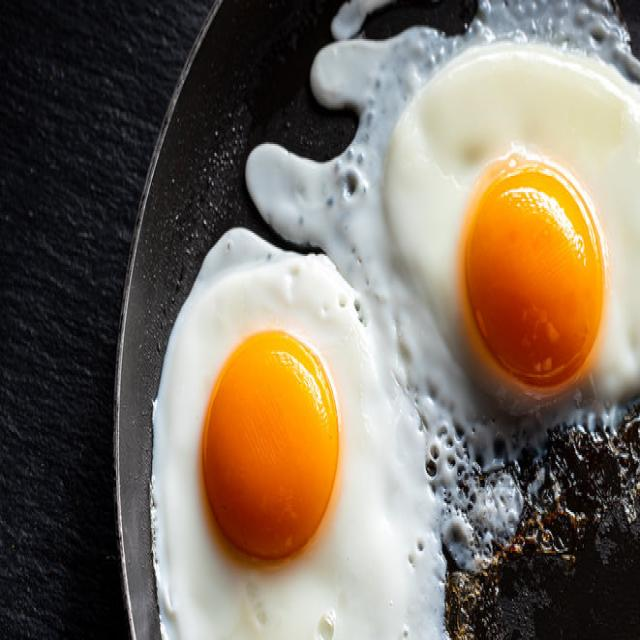Egg: (151, 230, 445, 638), (384, 46, 640, 398)
